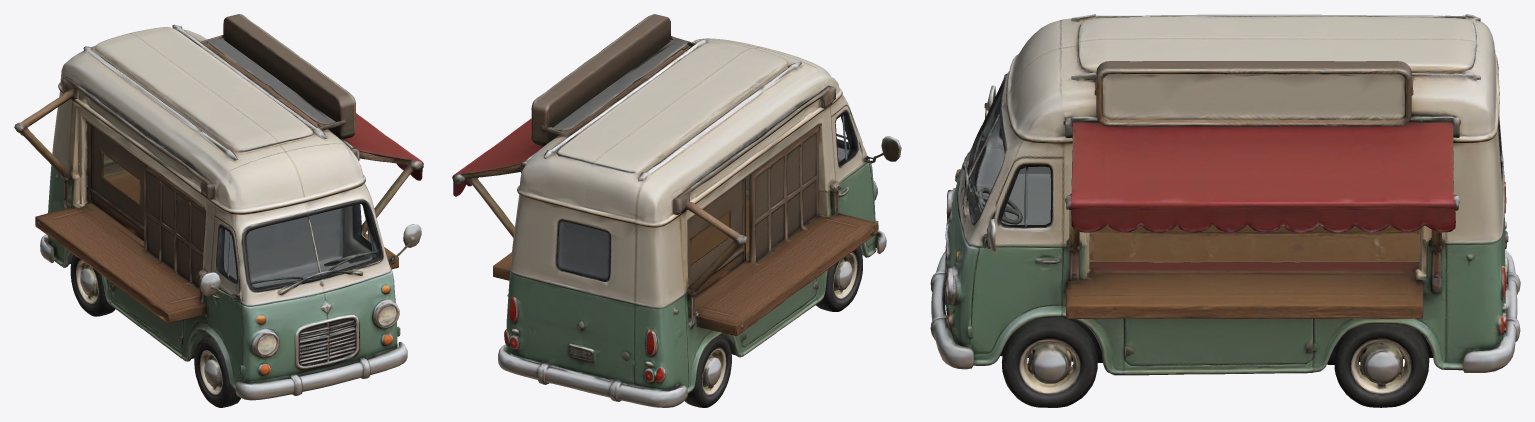
File: level-1-lite.glb
The picture shows the model from 3 angles, left to right: view 1: azimuth 30°, elevation 25°; view 2: azimuth 150°, elevation 25°; view 3: azimuth 270°, elevation 25°; orthographic projection. The views are drawn at different scales.
Parts seen in each view (by area): view 1: tripo_node_5dda1828-d0d5-4a59-a8a1-c40606a564f0; view 2: tripo_node_5dda1828-d0d5-4a59-a8a1-c40606a564f0; view 3: tripo_node_5dda1828-d0d5-4a59-a8a1-c40606a564f0.
Boxes of the visible parts, x1,y1,x2,y2 form: tripo_node_5dda1828-d0d5-4a59-a8a1-c40606a564f0: (14,14,423,407); tripo_node_5dda1828-d0d5-4a59-a8a1-c40606a564f0: (452,14,901,407); tripo_node_5dda1828-d0d5-4a59-a8a1-c40606a564f0: (930,14,1520,407).
Size of the model in its own units: 0.6954 by 0.6258 by 0.9773.
Materials: 1 (1 with a texture image).
